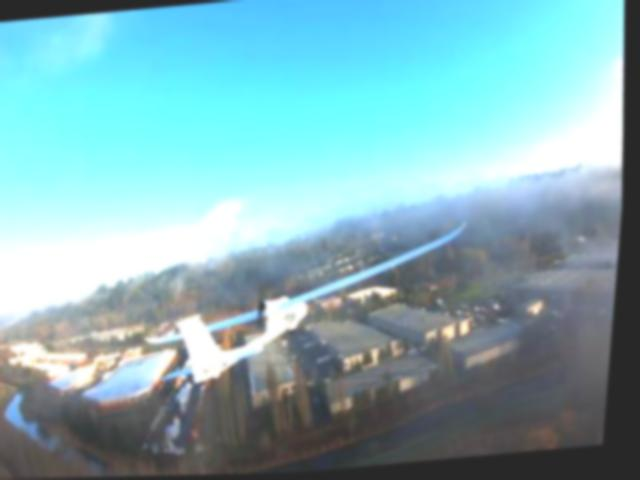uav: (137, 211, 491, 406)
